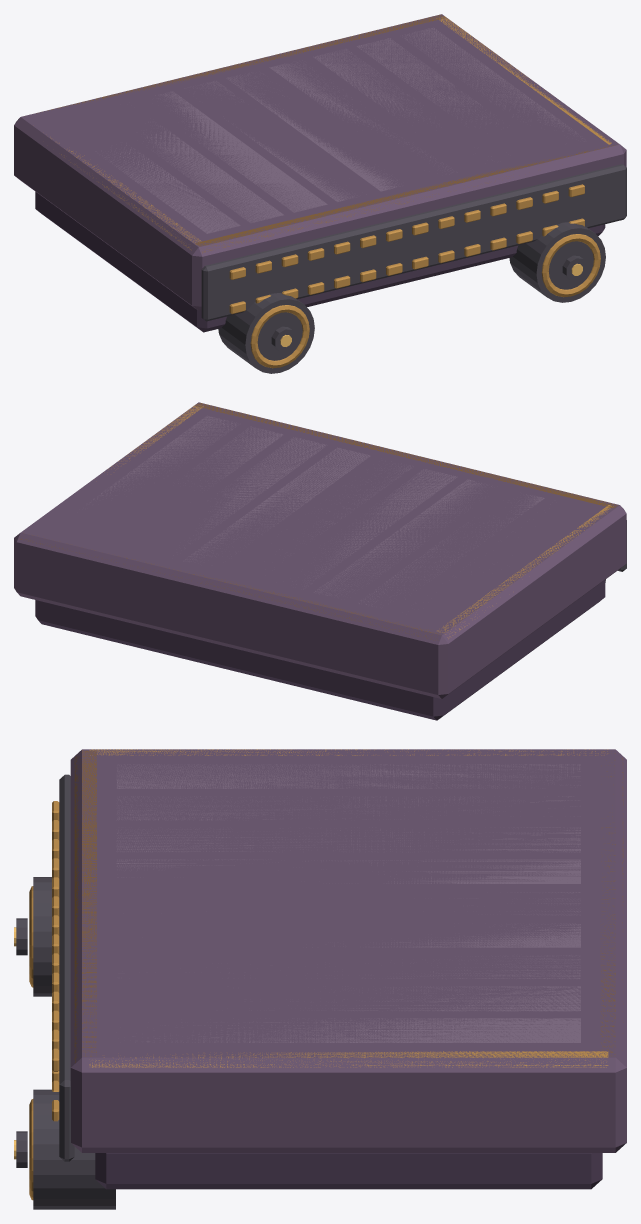
File: SM_S3Bridge_Platform.fbx
3 renders of one model, top to bottom at view 1: azimuth 30°, elevation 25°; view 2: azimuth 150°, elevation 25°; view 3: azimuth 270°, elevation 25°, orthographic. The views are drawn at different scales.
Parts seen in each view (by area): view 1: SM_S3Bridge_Platform; view 2: SM_S3Bridge_Platform; view 3: SM_S3Bridge_Platform.
Part boxes in pixels (x1,y1,x2,y2): SM_S3Bridge_Platform: (14, 14, 626, 373); SM_S3Bridge_Platform: (14, 402, 626, 720); SM_S3Bridge_Platform: (14, 749, 626, 1209).
Size of the model in its own units: 200 by 163 by 57.
